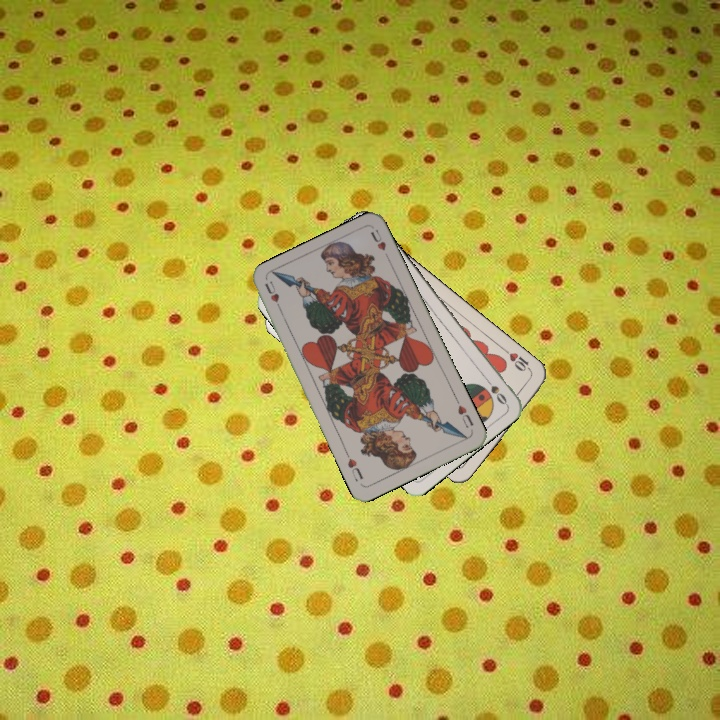H10: (500, 345, 535, 375)
HU: (261, 276, 285, 316), (452, 395, 476, 430)
SO: (480, 372, 510, 407)
